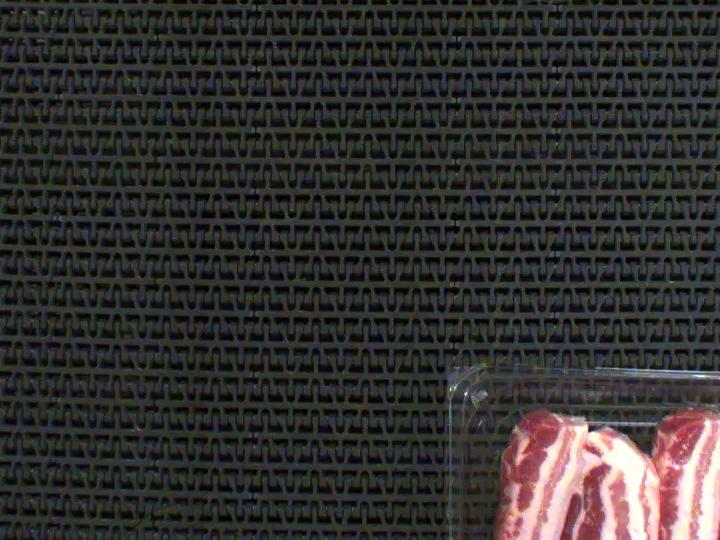packaging-error: (668, 397, 720, 416)
